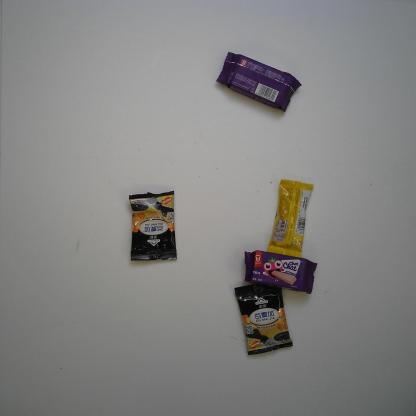Chocolate: (265, 176, 316, 261)
Dessert: (213, 48, 303, 114), (240, 246, 318, 297)
Instant Drink: (228, 279, 295, 357), (125, 190, 179, 263)
